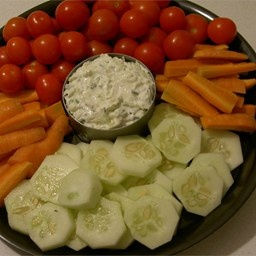background: (0, 0, 102, 101)
